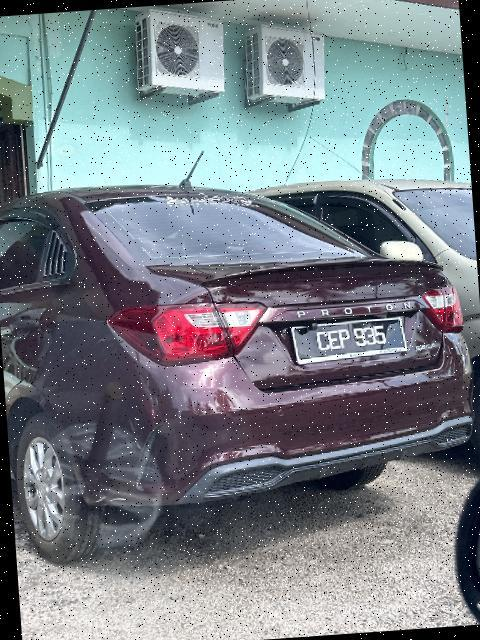CEP935: (287, 314, 411, 368)
License_Plate: (287, 314, 411, 368)
car: (1, 162, 480, 571)
